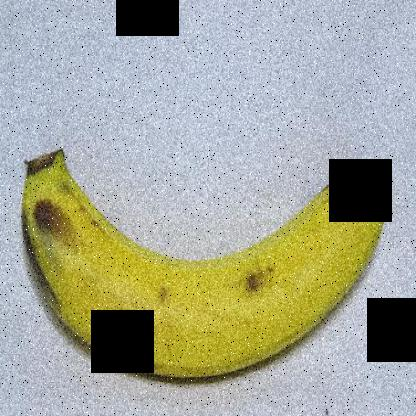freshripe: (8, 132, 397, 390)
